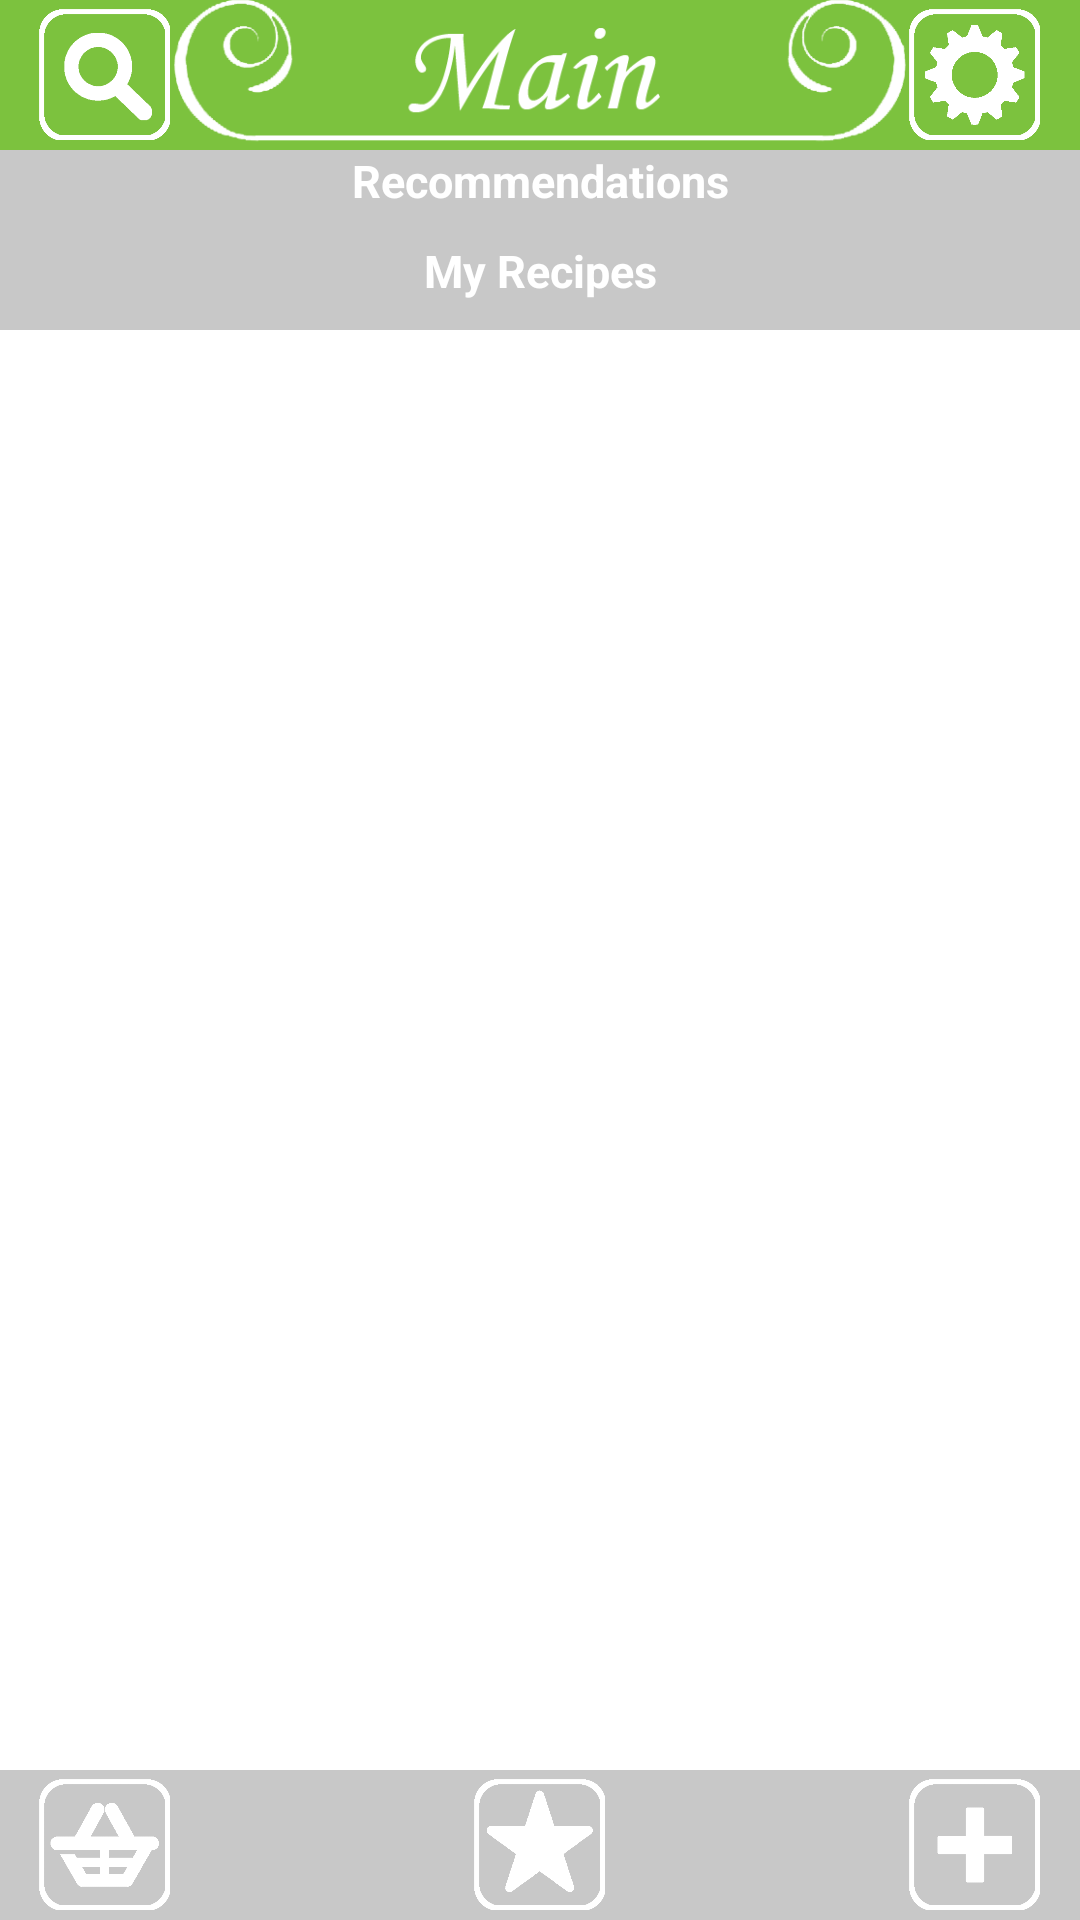

Where to tap for icons on this 1080px×1920px app screen, as (x=x, y=y):
addbutton: (x=974, y=1844)
basketbutton: (x=104, y=1844)
searchbutton: (x=104, y=74)
settingsbutton: (x=974, y=74)
starbutton: (x=539, y=1844)
